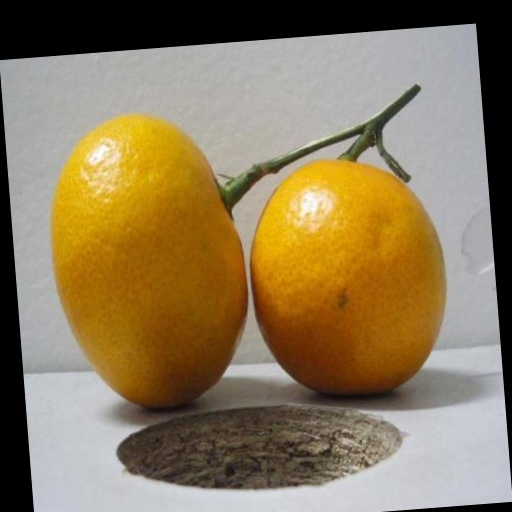fruit: (52, 114, 247, 407), (251, 161, 446, 394)
